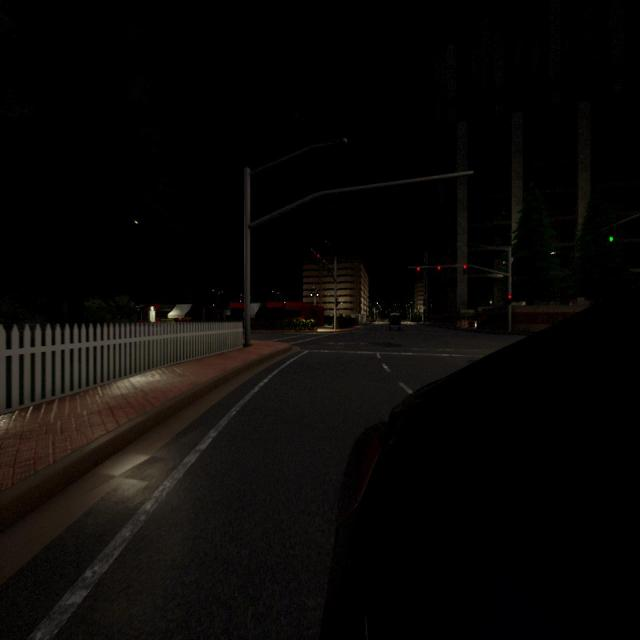Vehicle: (324, 289, 639, 640), (388, 313, 402, 326)
traffic_light: (508, 294, 512, 305), (335, 298, 339, 307), (609, 236, 614, 242), (463, 264, 467, 270), (437, 265, 441, 270), (417, 266, 420, 271), (328, 264, 331, 268), (317, 255, 320, 258), (324, 259, 326, 263)
